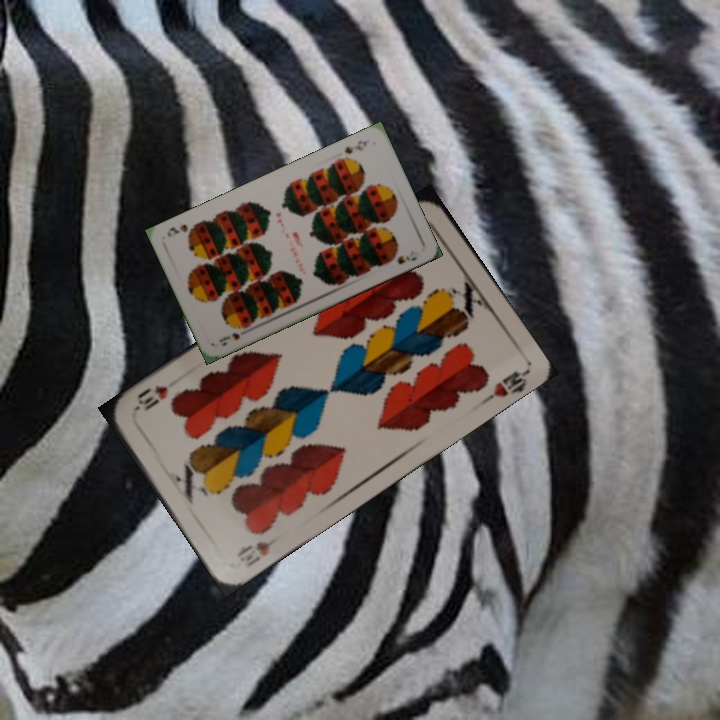H10: (241, 529, 286, 570)
S9: (340, 135, 372, 156), (214, 329, 243, 349)
